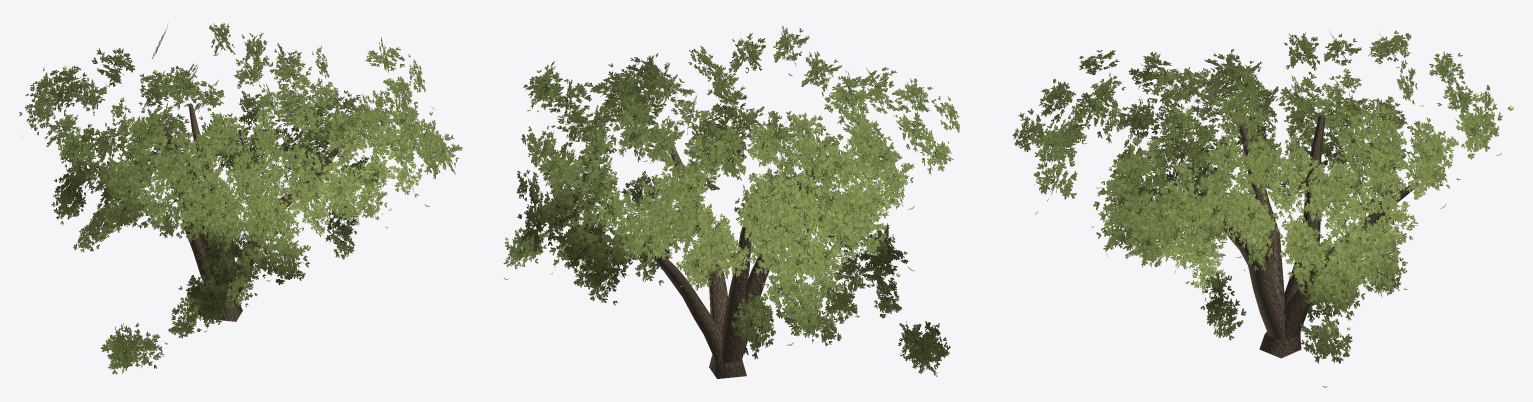
Rendered from old-c.lod1.glb.
The picture shows the model from 3 angles, left to right: view 1: azimuth 30°, elevation 25°; view 2: azimuth 150°, elevation 25°; view 3: azimuth 270°, elevation 25°; orthographic projection. The views are drawn at different scales.
Visible parts, largest first — view 1: foliage, bark; view 2: foliage, bark; view 3: foliage, bark.
Part boxes in pixels (bbox=[...]): foliage: bbox=[19, 23, 462, 374]; bark: bbox=[163, 103, 338, 321]; foliage: bbox=[503, 25, 959, 376]; bark: bbox=[632, 148, 815, 378]; foliage: bbox=[1012, 30, 1502, 363]; bark: bbox=[1213, 109, 1418, 358].
Size of the model in its own units: 15.57 by 10 by 17.08.
Materials: 4 (2 with a texture image).
